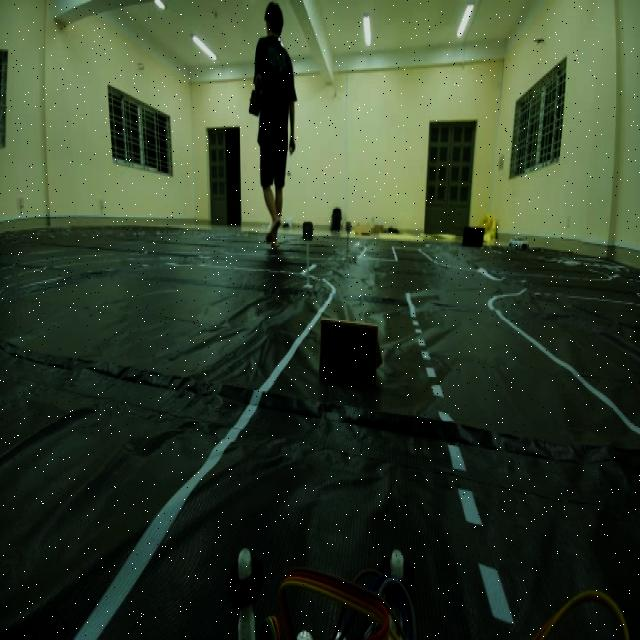roadblock: (304, 304, 390, 398)
